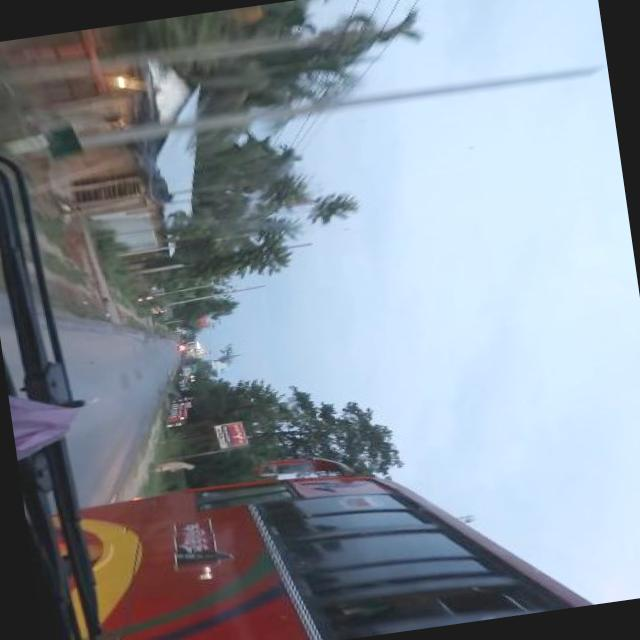bus: (64, 422, 594, 640)
